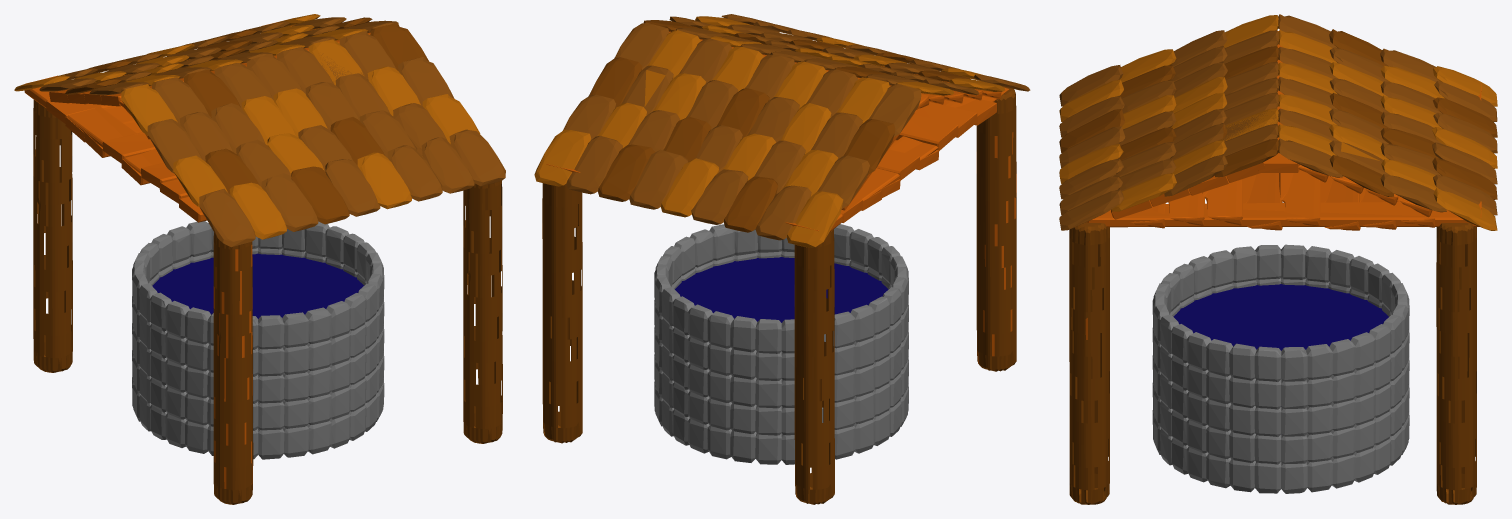
File: Well.fbx
3 renders of one model, left to right at view 1: azimuth 30°, elevation 25°; view 2: azimuth 150°, elevation 25°; view 3: azimuth 270°, elevation 25°, orthographic.
Visible parts, largest first — view 1: Cube.004, Cube.031, Cylinder.003, Cylinder.005, Cylinder.001, Cylinder, Cube.022, Cylinder.002; view 2: Cube.004, Cube.031, Cylinder.005, Cylinder.004, Cylinder.001, Cylinder, Cube.022, Cylinder.002; view 3: Cube.004, Cube.031, Cube.022, Cylinder.004, Cylinder.003, Cylinder.
Part boxes in pixels (x1,y1,x2,y2): Cube.004: [14, 14, 505, 247]; Cube.031: [132, 221, 384, 459]; Cylinder.003: [463, 181, 502, 443]; Cylinder.005: [33, 100, 72, 372]; Cylinder.001: [213, 232, 253, 504]; Cylinder: [152, 253, 364, 318]; Cube.022: [24, 18, 370, 222]; Cylinder.002: [213, 245, 252, 488]; Cube.004: [534, 14, 1030, 247]; Cube.031: [654, 224, 908, 464]; Cylinder.005: [794, 229, 834, 504]; Cylinder.004: [542, 183, 582, 443]; Cylinder.001: [976, 86, 1016, 371]; Cylinder: [675, 257, 888, 322]; Cube.022: [546, 25, 1008, 231]; Cylinder.002: [976, 132, 1016, 364]; Cube.004: [1059, 14, 1497, 230]; Cube.031: [1152, 244, 1409, 493]; Cube.022: [1087, 31, 1481, 230]; Cylinder.004: [1436, 223, 1476, 504]; Cylinder.003: [1069, 222, 1109, 504]; Cylinder: [1173, 284, 1388, 350].
Bounding box in the file's own units: 4.66 × 5.41 × 5.97.
